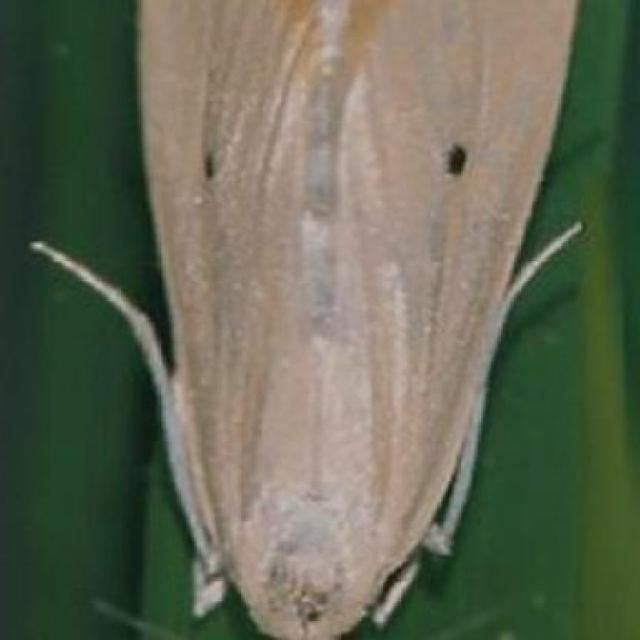stem-borer: (28, 0, 588, 640)
